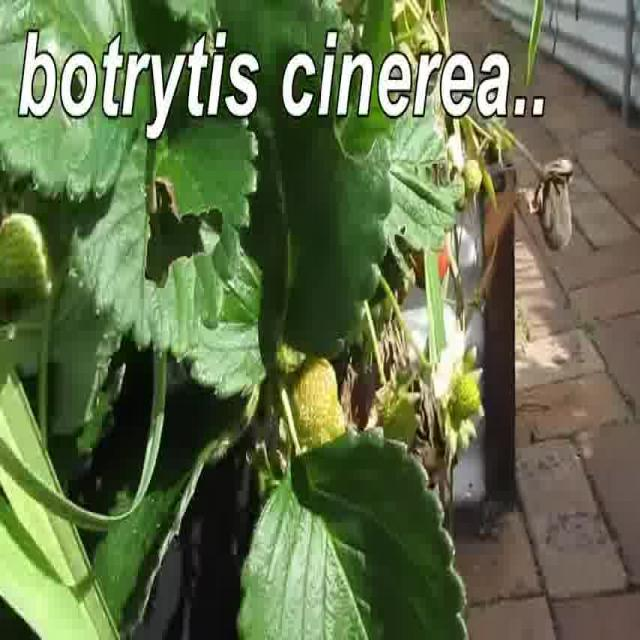Fruta sana: (7, 202, 58, 342), (290, 328, 343, 460), (414, 228, 452, 288), (444, 136, 466, 176), (464, 158, 484, 202)
Moho gris: (539, 158, 580, 264)
